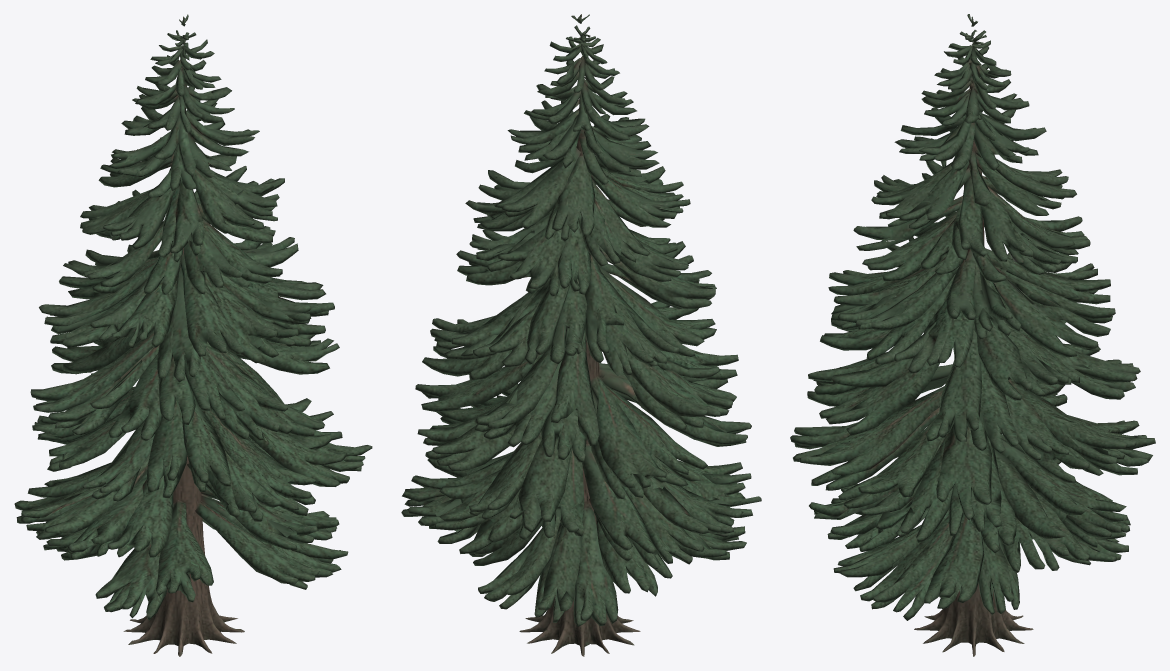
File: Tree-01.glb
The picture shows the model from 3 angles, left to right: view 1: azimuth 30°, elevation 25°; view 2: azimuth 150°, elevation 25°; view 3: azimuth 270°, elevation 25°; orthographic projection.
Parts seen in each view (by area): view 1: mesh_node; view 2: mesh_node; view 3: mesh_node.
Boxes of the visible parts, x1=… form: mesh_node: x1=14, y1=14, x2=372, y2=656; mesh_node: x1=401, y1=14, x2=761, y2=656; mesh_node: x1=790, y1=14, x2=1155, y2=656.
Size of the model in its own units: 0.5234 by 1 by 0.541.
1 material, 1 textured.
